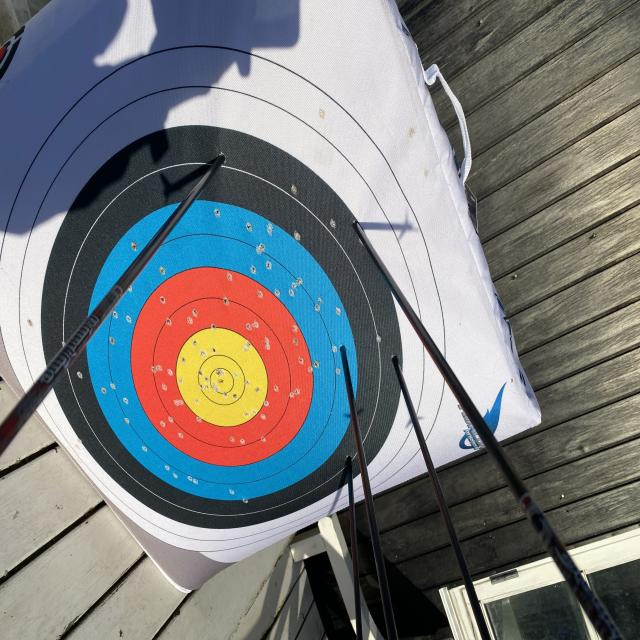Arrow_Black: (208, 145, 252, 175), (349, 210, 368, 246), (341, 446, 358, 482), (385, 345, 404, 375)
Arrow_Blue: (333, 326, 357, 366)
